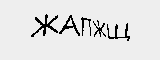Б: (115, 26, 128, 45)
Г: (127, 23, 140, 43)
Е: (72, 31, 95, 53)
Л: (92, 29, 115, 50)
Ф: (14, 31, 43, 52)
Ғ: (43, 30, 68, 53)
